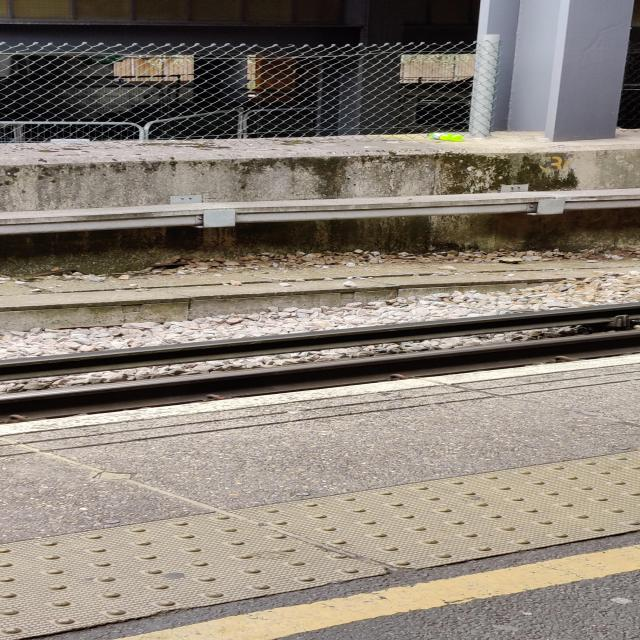litter: (421, 132, 469, 144)
